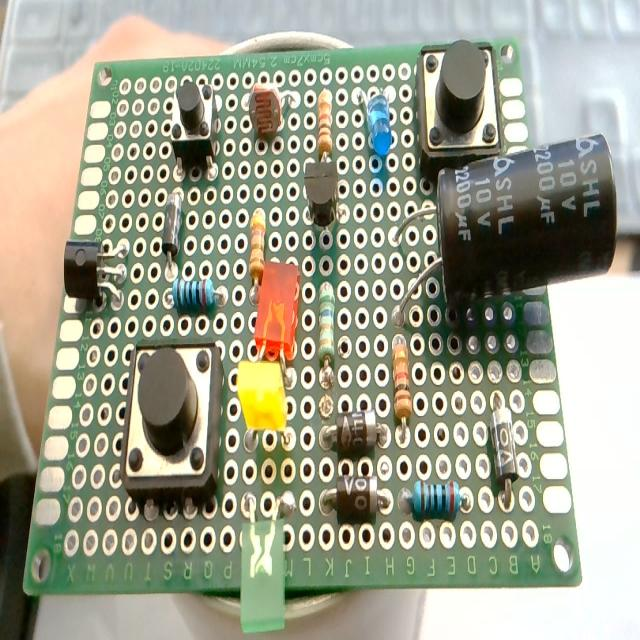Electrolytic capacitor: (396, 134, 620, 318)
cds: (247, 80, 298, 146)
diode: (486, 392, 520, 510), (320, 480, 390, 522), (320, 415, 390, 454), (162, 190, 183, 262)
led: (239, 486, 293, 632), (237, 354, 297, 452), (253, 259, 301, 362), (360, 83, 394, 154)
resistor: (399, 483, 468, 522), (316, 282, 336, 400), (391, 335, 412, 433), (172, 275, 223, 313), (248, 207, 266, 303), (316, 88, 332, 160)
switch: (118, 341, 224, 510), (416, 38, 501, 180), (169, 76, 219, 176)
transistor: (61, 238, 128, 308), (303, 160, 340, 234)
